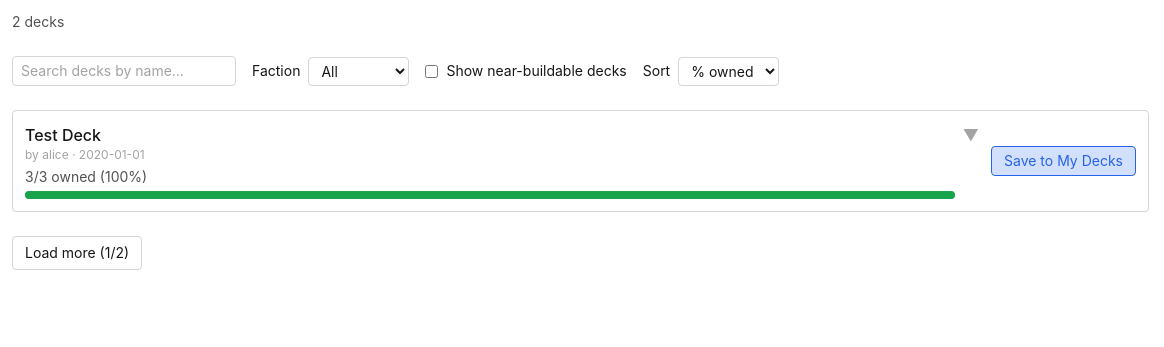
DiscoverSection › Load more appends the next page using the current deck count as offset
Click the button "Load more (1/2)" at (77, 253), box [12,236,142,270]
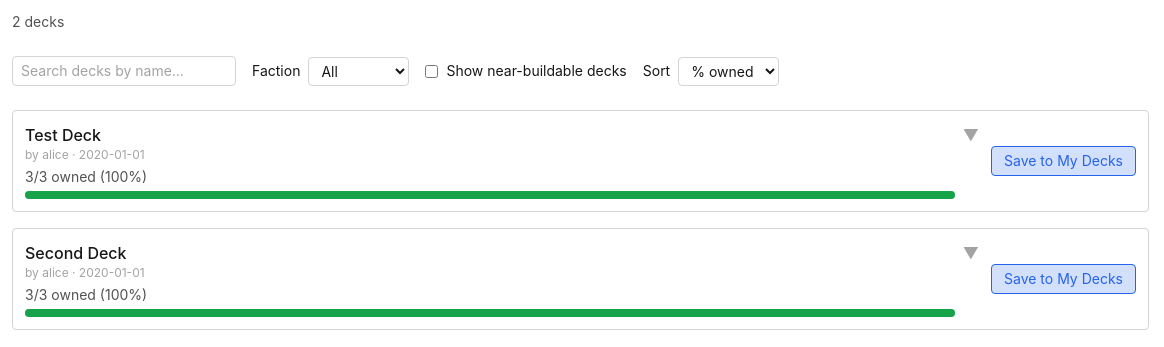
Expected: the text "Test Deck" is shown, [25,125,101,145]
Result: the text "Second Deck" is shown at [25,243,126,263]
